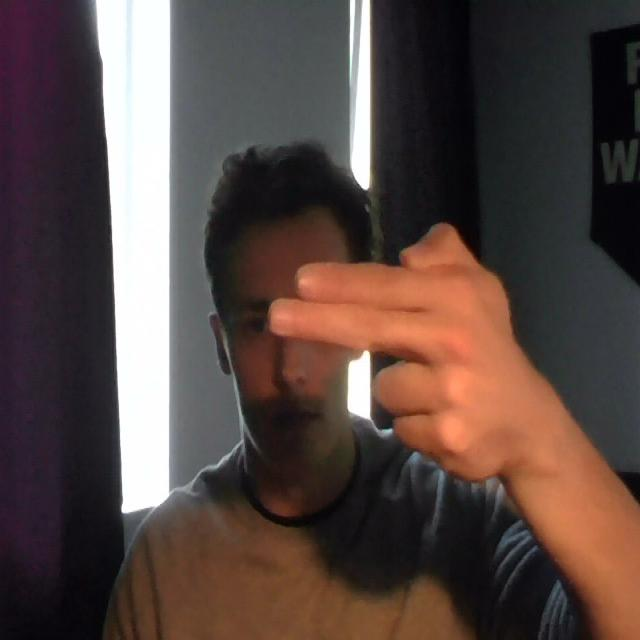left: (266, 221, 548, 489)
